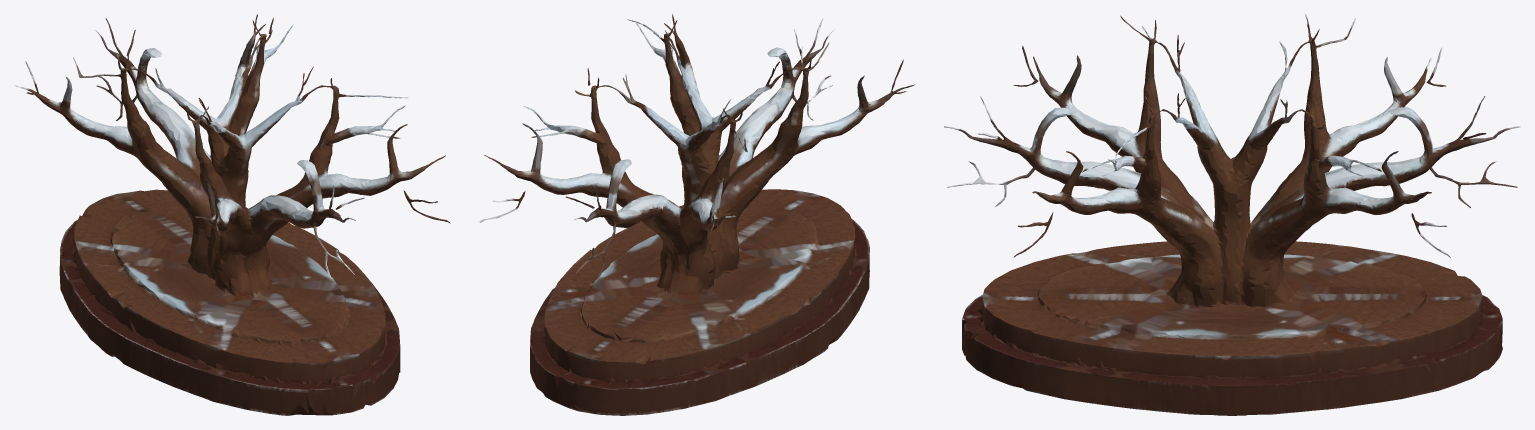
File: Tundra_DeadTree.glb
3 renders of one model, left to right at view 1: azimuth 30°, elevation 25°; view 2: azimuth 150°, elevation 25°; view 3: azimuth 270°, elevation 25°, orthographic. The views are drawn at different scales.
Parts seen in each view (by area): view 1: Tundra_DeadTree_v2; view 2: Tundra_DeadTree_v2; view 3: Tundra_DeadTree_v2.
Part boxes in pixels (box(x1,y1,x2,y2)): Tundra_DeadTree_v2: box(15, 14, 450, 415); Tundra_DeadTree_v2: box(479, 14, 914, 415); Tundra_DeadTree_v2: box(944, 14, 1520, 415).
Size of the model in its own units: 2.6 by 2.6 by 4.65.
Materials: 1 (1 with a texture image).
